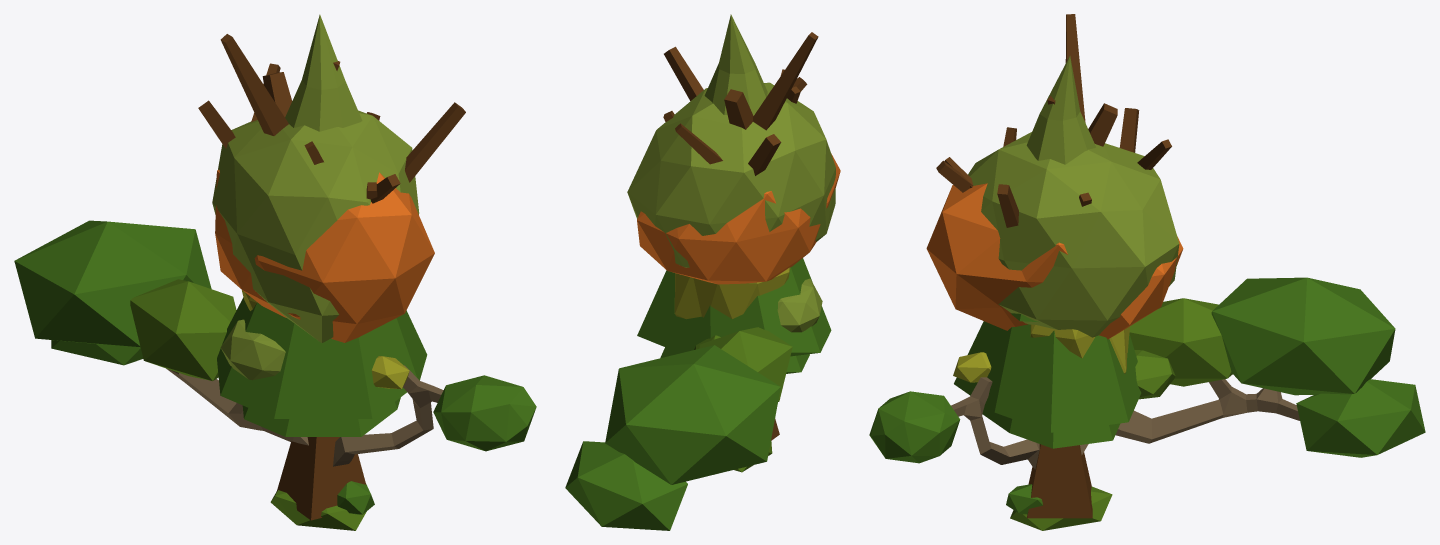
File: trees.fbx
3 views of the same model, side by side, from view 1: azimuth 30°, elevation 25°; view 2: azimuth 150°, elevation 25°; view 3: azimuth 270°, elevation 25° (orthographic). The views are drawn at different scales.
Visible parts, largest first — view 1: bonsai, BigFir, MidTree, MidTree2, bonsai3, EmptyTree2, LittleFir, EmptyTree; view 2: bonsai, MidTree, BigFir, MidTree2, EmptyTree2, LittleTree, bonsai3, EmptyTree, LittleFir; view 3: bonsai, MidTree, BigFir, bonsai3, MidTree2, EmptyTree2, LittleFir, EmptyTree, LittleTree.
Boxes of the visible parts, box(x1,y1,x2,y2) form: bonsai: box(14, 220, 374, 514); BigFir: box(217, 14, 427, 520); MidTree: box(212, 110, 419, 342); MidTree2: box(215, 169, 434, 342); bonsai3: box(220, 319, 536, 530); EmptyTree2: box(220, 34, 465, 199); LittleFir: box(242, 397, 400, 436); EmptyTree: box(198, 63, 400, 203); bonsai: box(565, 327, 792, 530); MidTree: box(627, 82, 835, 267); BigFir: box(637, 14, 831, 440); MidTree2: box(637, 153, 840, 284); EmptyTree2: box(664, 32, 818, 130); LittleTree: box(674, 267, 790, 319); bonsai3: box(694, 278, 822, 472); EmptyTree: box(663, 69, 800, 175); LittleFir: box(660, 347, 809, 373); bonsai: box(1006, 277, 1425, 514); MidTree: box(968, 132, 1179, 337); BigFir: box(954, 56, 1141, 518); bonsai3: box(869, 350, 1175, 530); MidTree2: box(926, 183, 1183, 339); EmptyTree2: box(944, 14, 1117, 227); LittleFir: box(982, 406, 1120, 448); EmptyTree: box(936, 108, 1171, 206); LittleTree: box(1030, 324, 1129, 373).
Size of the model in its own units: 190 by 320 by 341.
